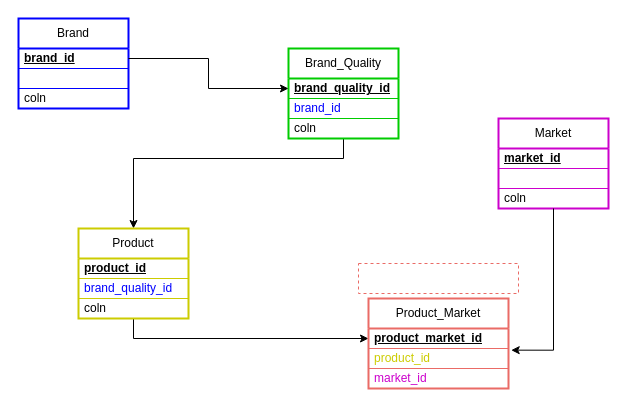
Some shapes in this 626 by 406 pixel diagram are drawn without their labels. The centre of each missing label's shape, as x and y in pixels:
brand_name: point 73,78
market_name: point 553,178
Product_Market or some Product aggregation: point 438,278
